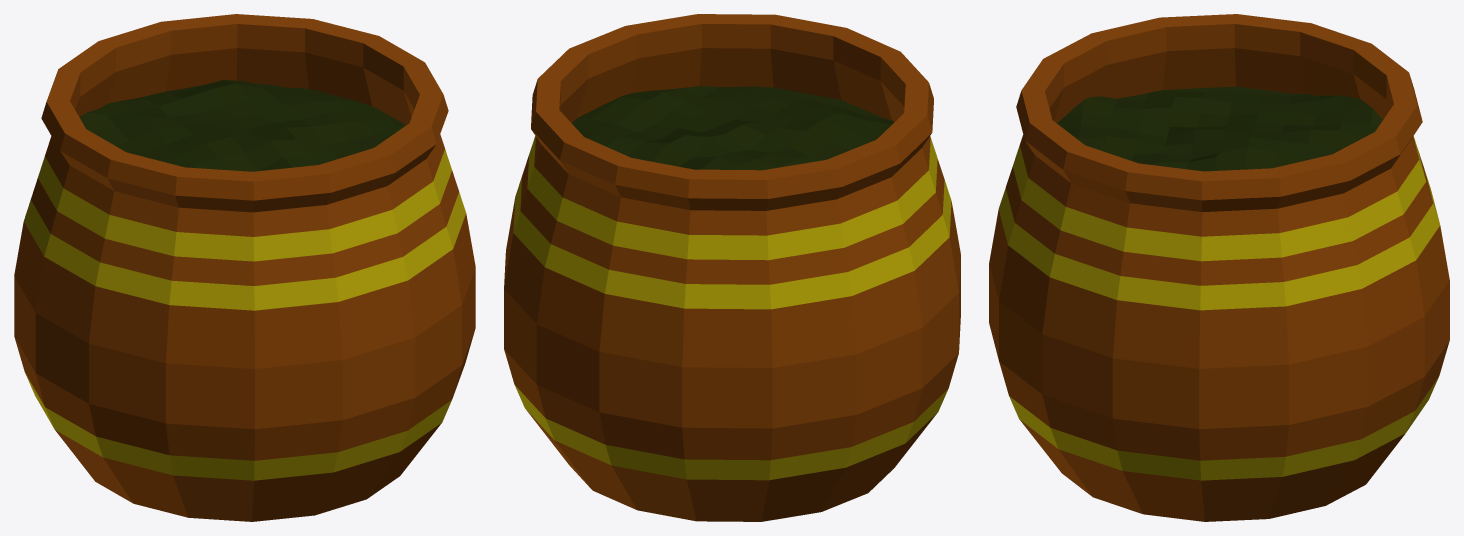
The model's file is potC.glb.
The picture shows the model from 3 angles, left to right: view 1: azimuth 30°, elevation 25°; view 2: azimuth 150°, elevation 25°; view 3: azimuth 270°, elevation 25°; orthographic projection.
Visible parts, largest first — view 1: pot.003, dirt; view 2: pot.003, dirt; view 3: pot.003, dirt.
Part boxes in pixels (box(x1,y1,x2,y2)): pot.003: box(14, 14, 475, 521); dirt: box(79, 80, 406, 171); pot.003: box(504, 14, 960, 521); dirt: box(572, 86, 894, 170); pot.003: box(989, 14, 1449, 521); dirt: box(1057, 86, 1382, 171).
Size of the model in its own units: 1.6 by 1.36 by 1.6.
